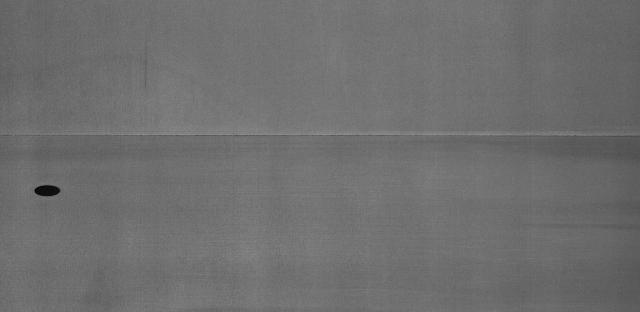punching_hole: (32, 180, 76, 201)
welding_line: (3, 126, 640, 147)
